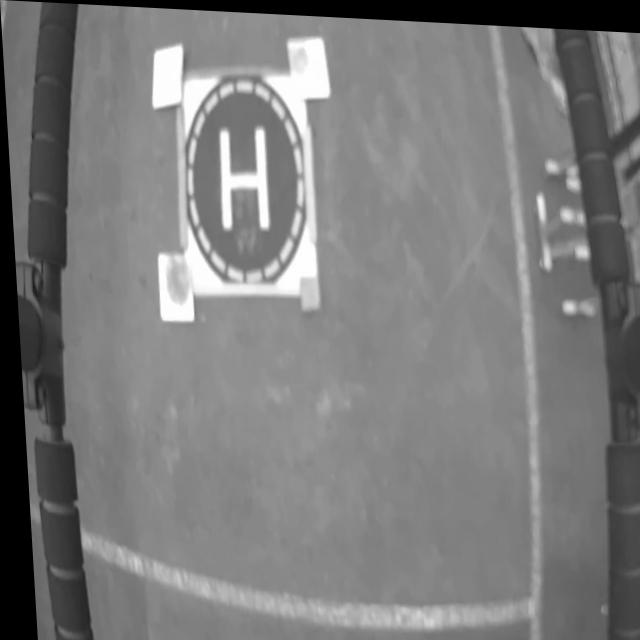Helipad: (218, 125, 268, 227)
